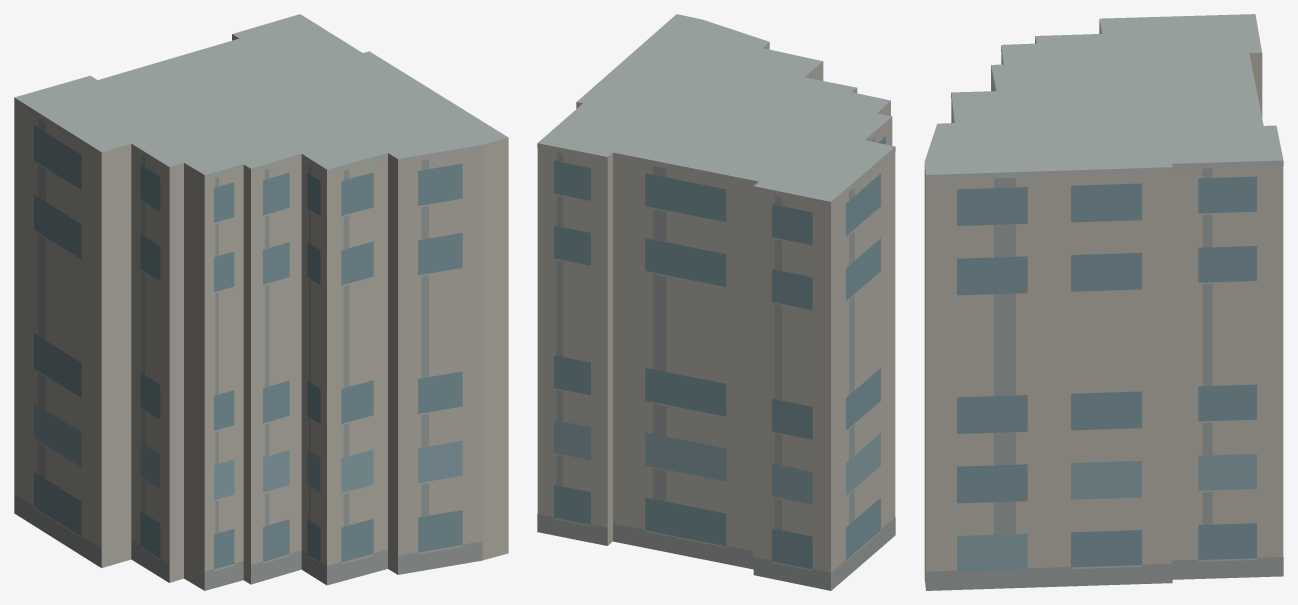
File: survey-upis-32492938.glb
3 renders of one model, left to right at view 1: azimuth 30°, elevation 25°; view 2: azimuth 150°, elevation 25°; view 3: azimuth 270°, elevation 25°, orthographic. The views are drawn at different scales.
Visible parts, largest first — view 1: survey-upis-32492938.tmp; view 2: survey-upis-32492938.tmp; view 3: survey-upis-32492938.tmp.
Boxes of the visible parts, x1,y1,x2,y2 form: survey-upis-32492938.tmp: (14,14,508,590); survey-upis-32492938.tmp: (537,14,895,590); survey-upis-32492938.tmp: (924,14,1283,590).
Size of the model in its own units: 14.7 by 17.7 by 13.86.
